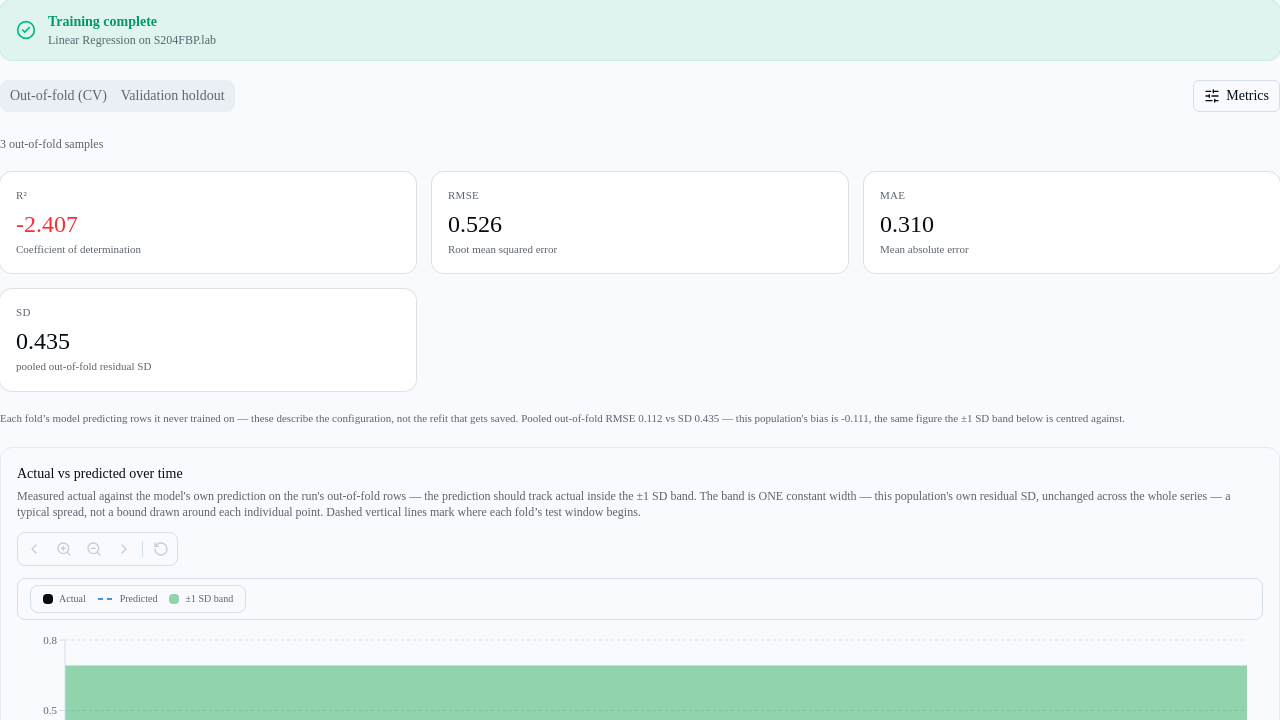
Phase5Evaluation — one population per panel (MODEL-FLOW-019-T15/V25, rescoped by MODEL-FLOW-030) › the holdout panel names "validation holdout" everywhere and no other population
Click the tab "Validation holdout" at (173, 96), box 114,83 -> 232,109
(page scrolled)
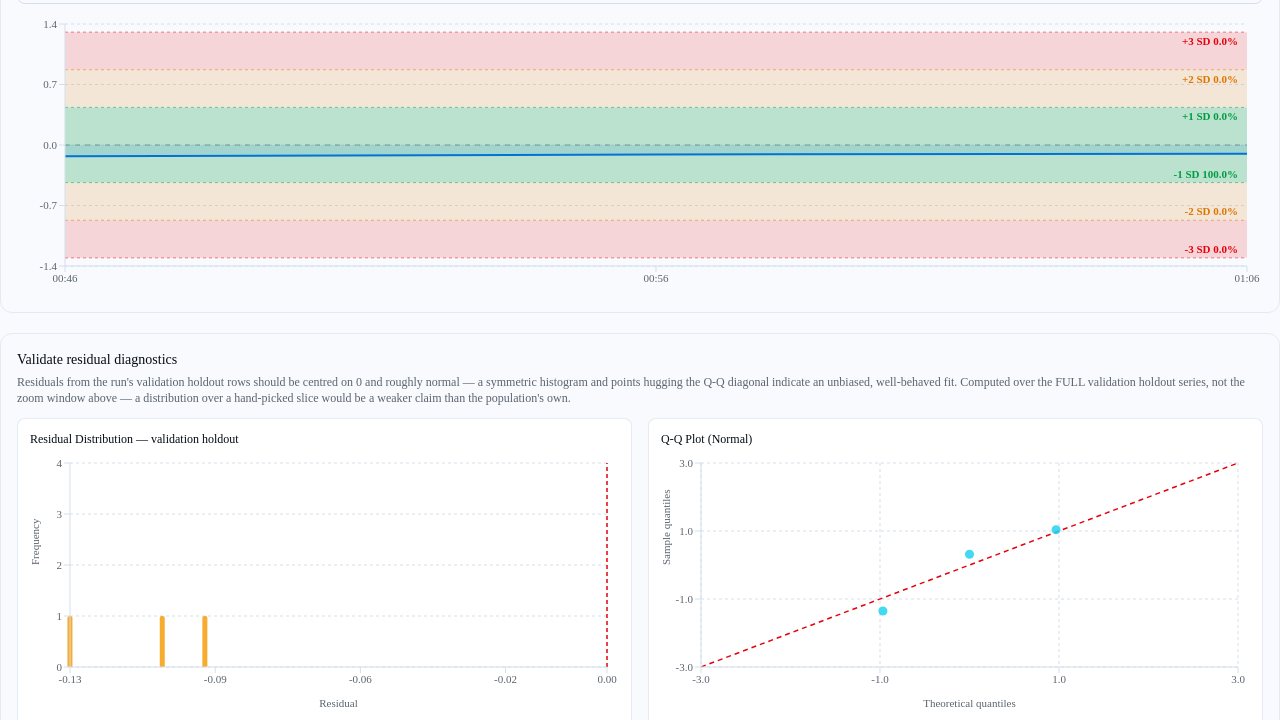
Expected: the text "out-of-fold" is not shown
Result: the heading "Validate residual diagnostics" is shown at 17,352 -> 177,367
